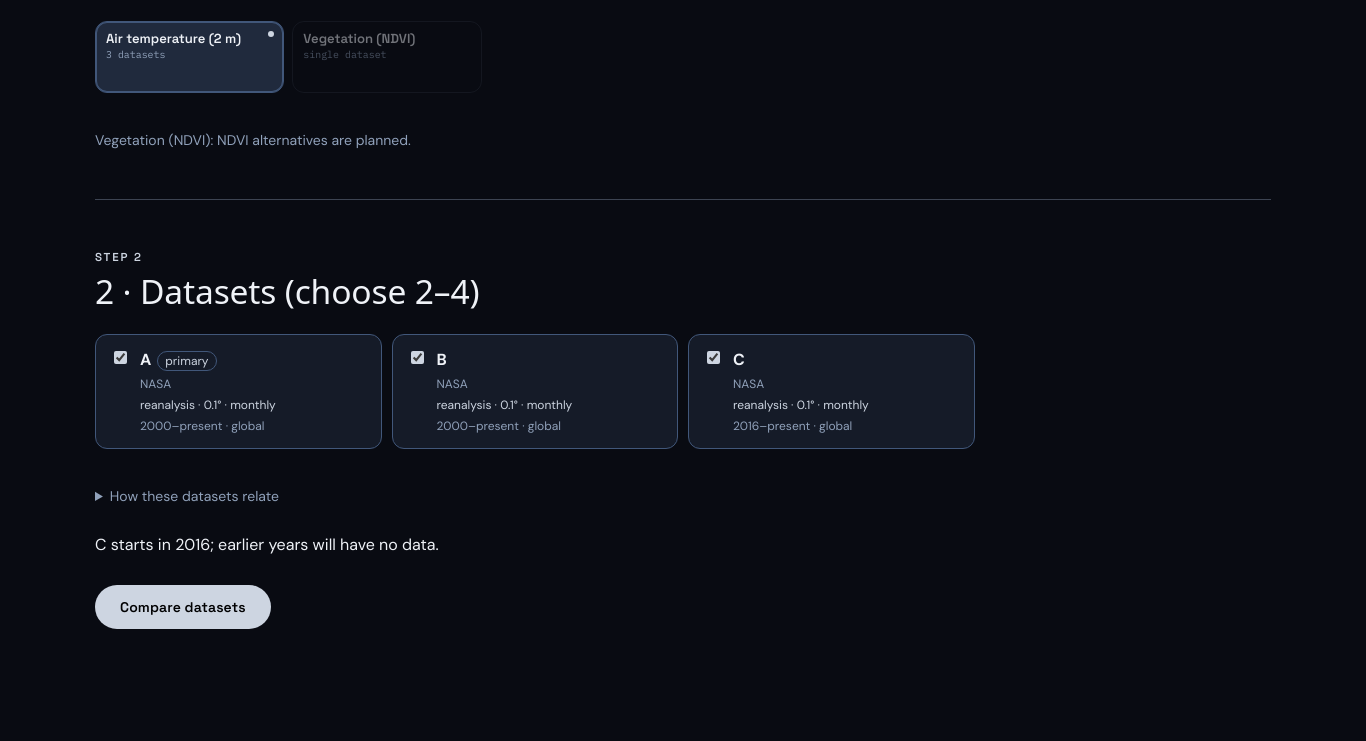
Scenario: Compare datasets page › requires at least two datasets
(page scrolled)
Expected: the heading "2 · Datasets (choose 2–4)" is shown, [95,268,479,314]
Click the checkbox labelled "B NASA reanalysis · 0.1° · monthly 2000–present · global" at [417, 358], box [410,351,424,364]
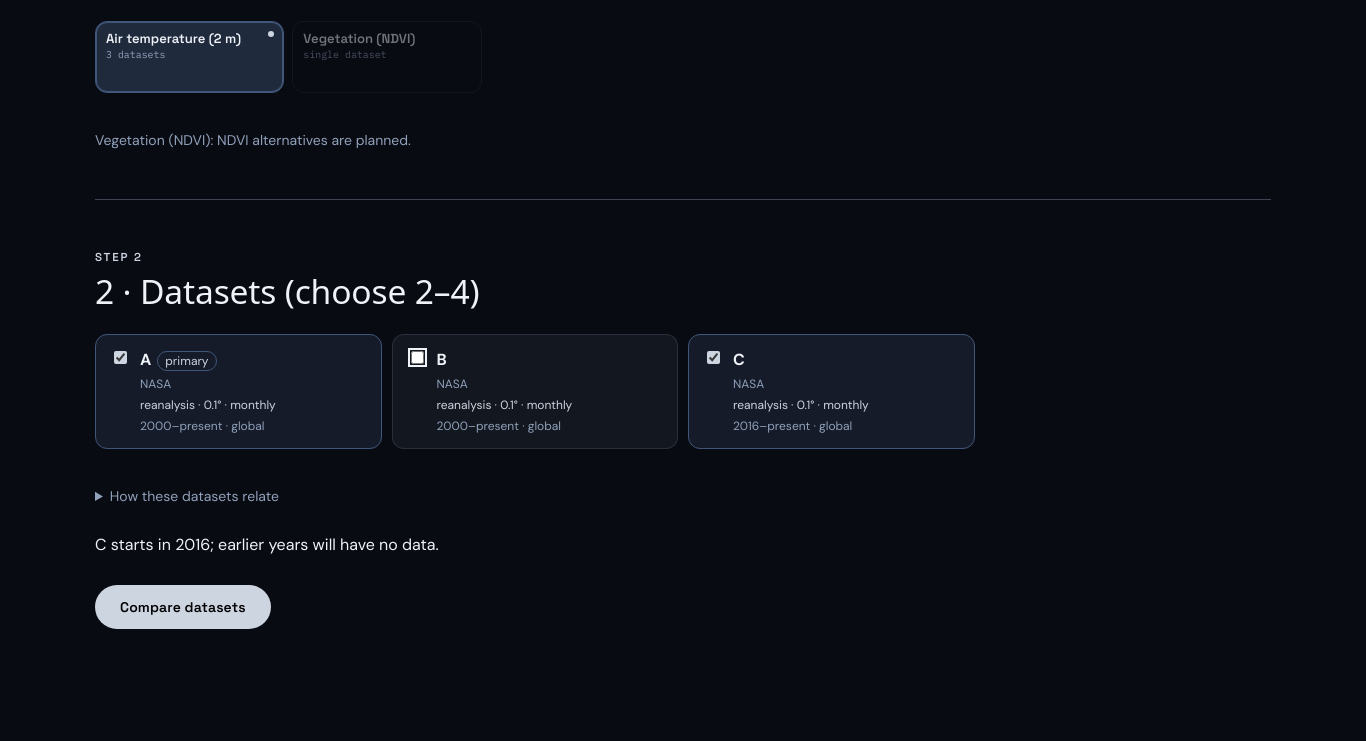
Click the checkbox labelled "C NASA reanalysis · 0.1° · monthly 2016–present · global" at [714, 358], box [707,351,720,364]
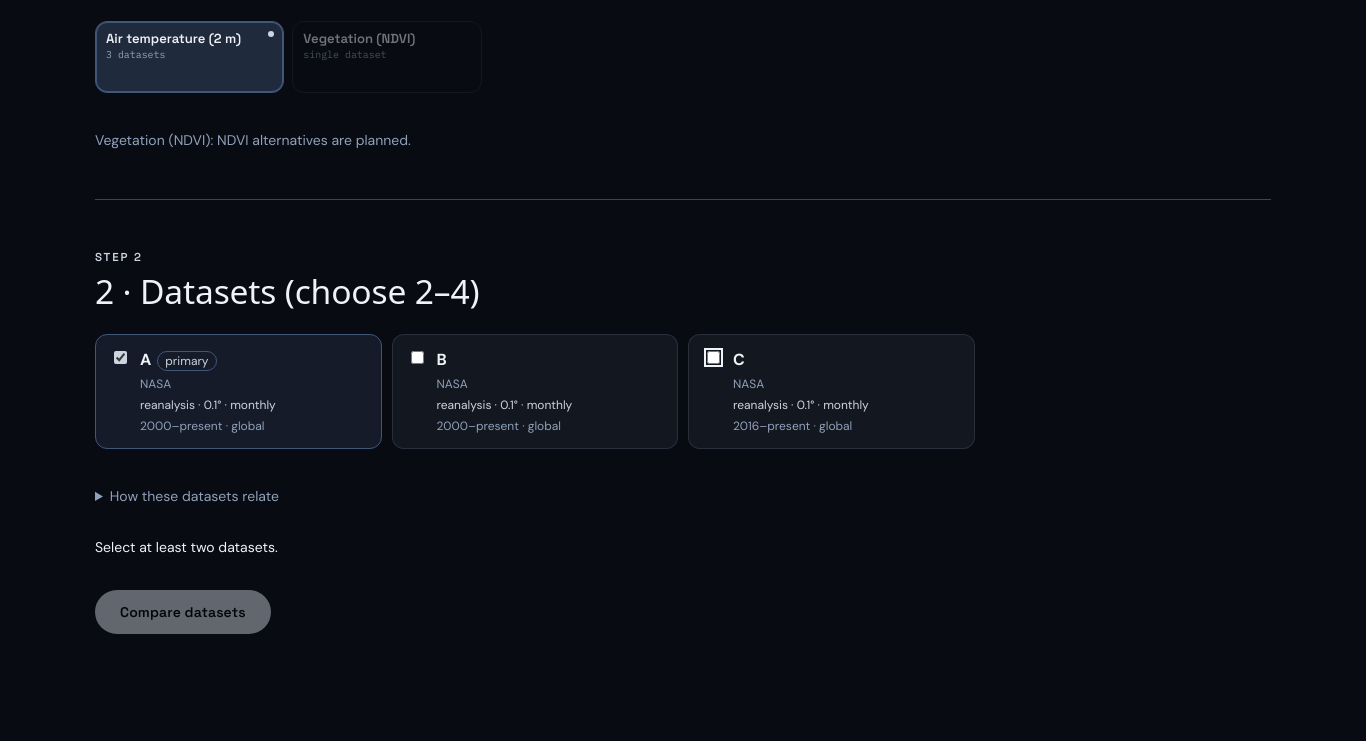
Expected: the text "Select at least two datasets." is shown, [95,538,278,556]
Expected: the button "Compare datasets" is disabled, [95,590,271,634]
